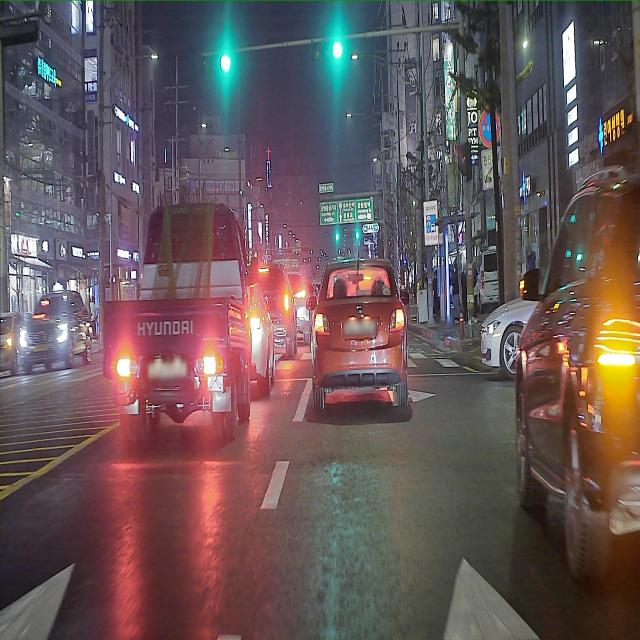Green Light: (219, 51, 232, 76), (331, 40, 344, 62)
